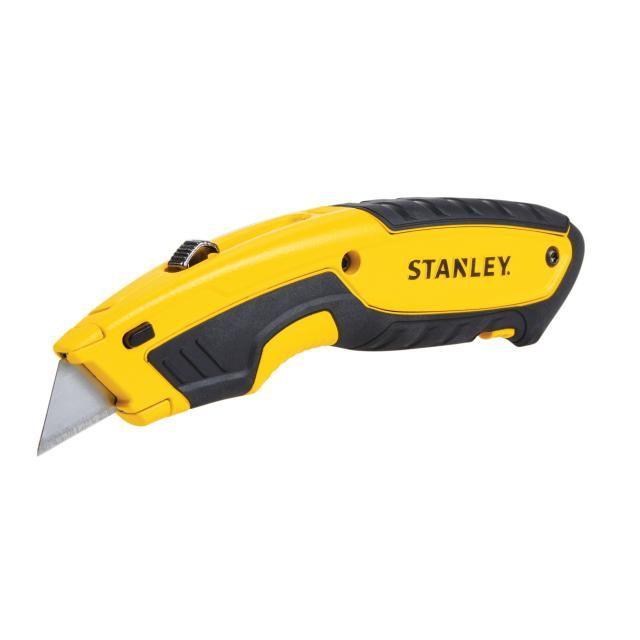estilete: (38, 198, 583, 454)
